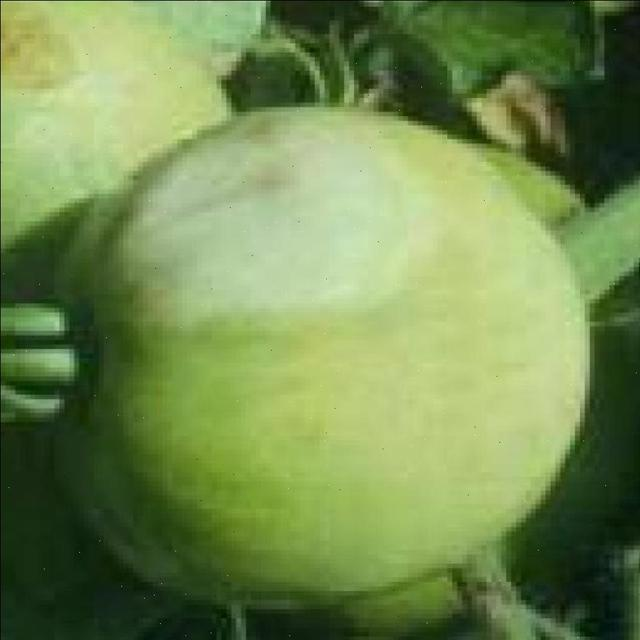Sunscald Fruit: (62, 70, 311, 231)
